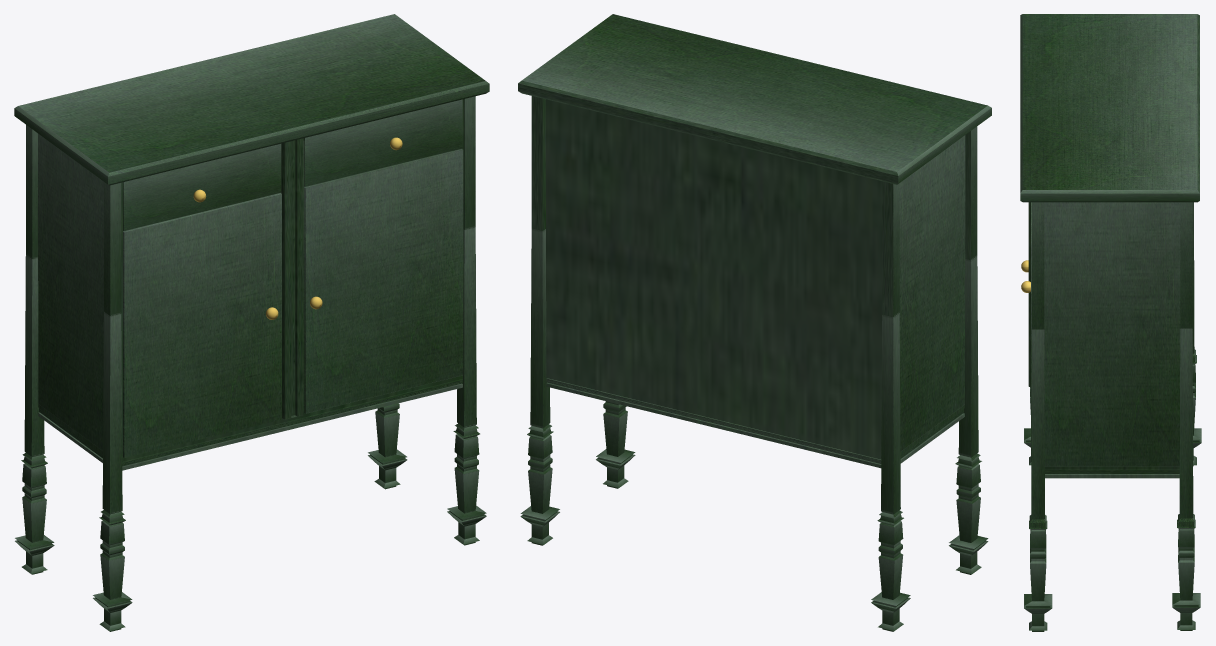
Rendered from draw for guest.fbx.
The picture shows the model from 3 angles, left to right: view 1: azimuth 30°, elevation 25°; view 2: azimuth 150°, elevation 25°; view 3: azimuth 270°, elevation 25°; orthographic projection. The views are drawn at different scales.
Parts seen in each view (by area): view 1: pCube1231, pCube1248, pCube1246, pCube1240, pCube1247, pCube1245, pCube1285, pCube1287, pCube1244, pCube1286; view 2: pCube1231, pCube1287, pCube1286, pCube1240, pCube1285; view 3: pCube1231, pCube1285, pCube1286, pCube1287, pCube1244.
Boxes of the visible parts, <box> form: pCube1231: <box>14,14,489,470</box>; pCube1248: <box>304,149,463,413</box>; pCube1246: <box>123,193,281,457</box>; pCube1240: <box>93,182,132,631</box>; pCube1247: <box>304,99,462,186</box>; pCube1245: <box>123,144,281,230</box>; pCube1285: <box>447,96,486,545</box>; pCube1287: <box>15,125,54,574</box>; pCube1244: <box>281,138,303,419</box>; pCube1286: <box>368,403,407,489</box>; pCube1231: <box>518,14,991,468</box>; pCube1287: <box>871,181,910,631</box>; pCube1286: <box>520,96,559,545</box>; pCube1240: <box>949,126,988,574</box>; pCube1285: <box>596,401,635,488</box>; pCube1231: <box>1020,14,1199,478</box>; pCube1285: <box>1024,202,1052,631</box>; pCube1286: <box>1172,202,1200,630</box>; pCube1287: <box>1192,202,1201,466</box>; pCube1244: <box>1028,202,1030,387</box>.
Size of the model in its own units: 261 by 303 by 112.
